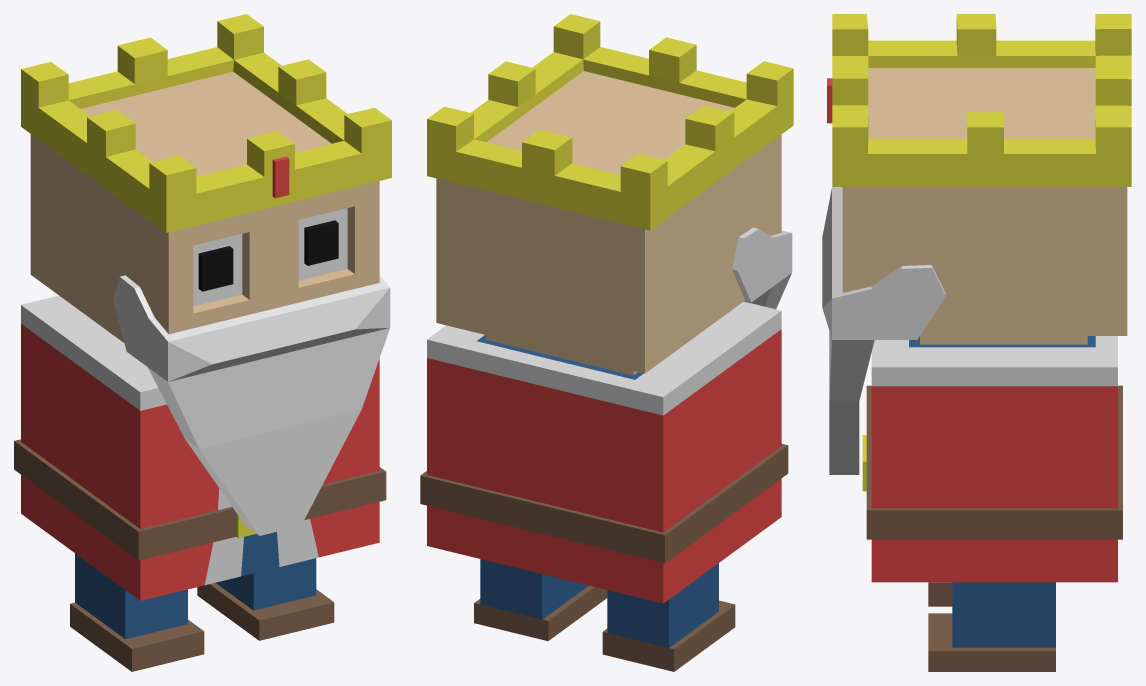
File: Player_King_Stade5.fbx
The picture shows the model from 3 angles, left to right: view 1: azimuth 30°, elevation 25°; view 2: azimuth 150°, elevation 25°; view 3: azimuth 270°, elevation 25°; orthographic projection. The views are drawn at different scales.
Visible parts, largest first — view 1: Player_King_Stade5; view 2: Player_King_Stade5; view 3: Player_King_Stade5.
Part boxes in pixels (x1,y1,x2,y2): Player_King_Stade5: (14,14,391,671); Player_King_Stade5: (420,14,793,671); Player_King_Stade5: (822,14,1131,671).
Bounding box in the file's own units: 79.28 × 163 × 83.17.
